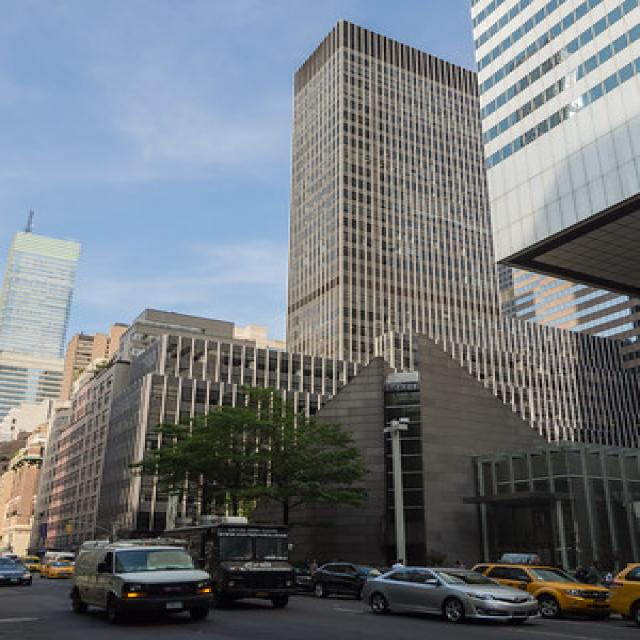Normal_building: (283, 17, 513, 590)
